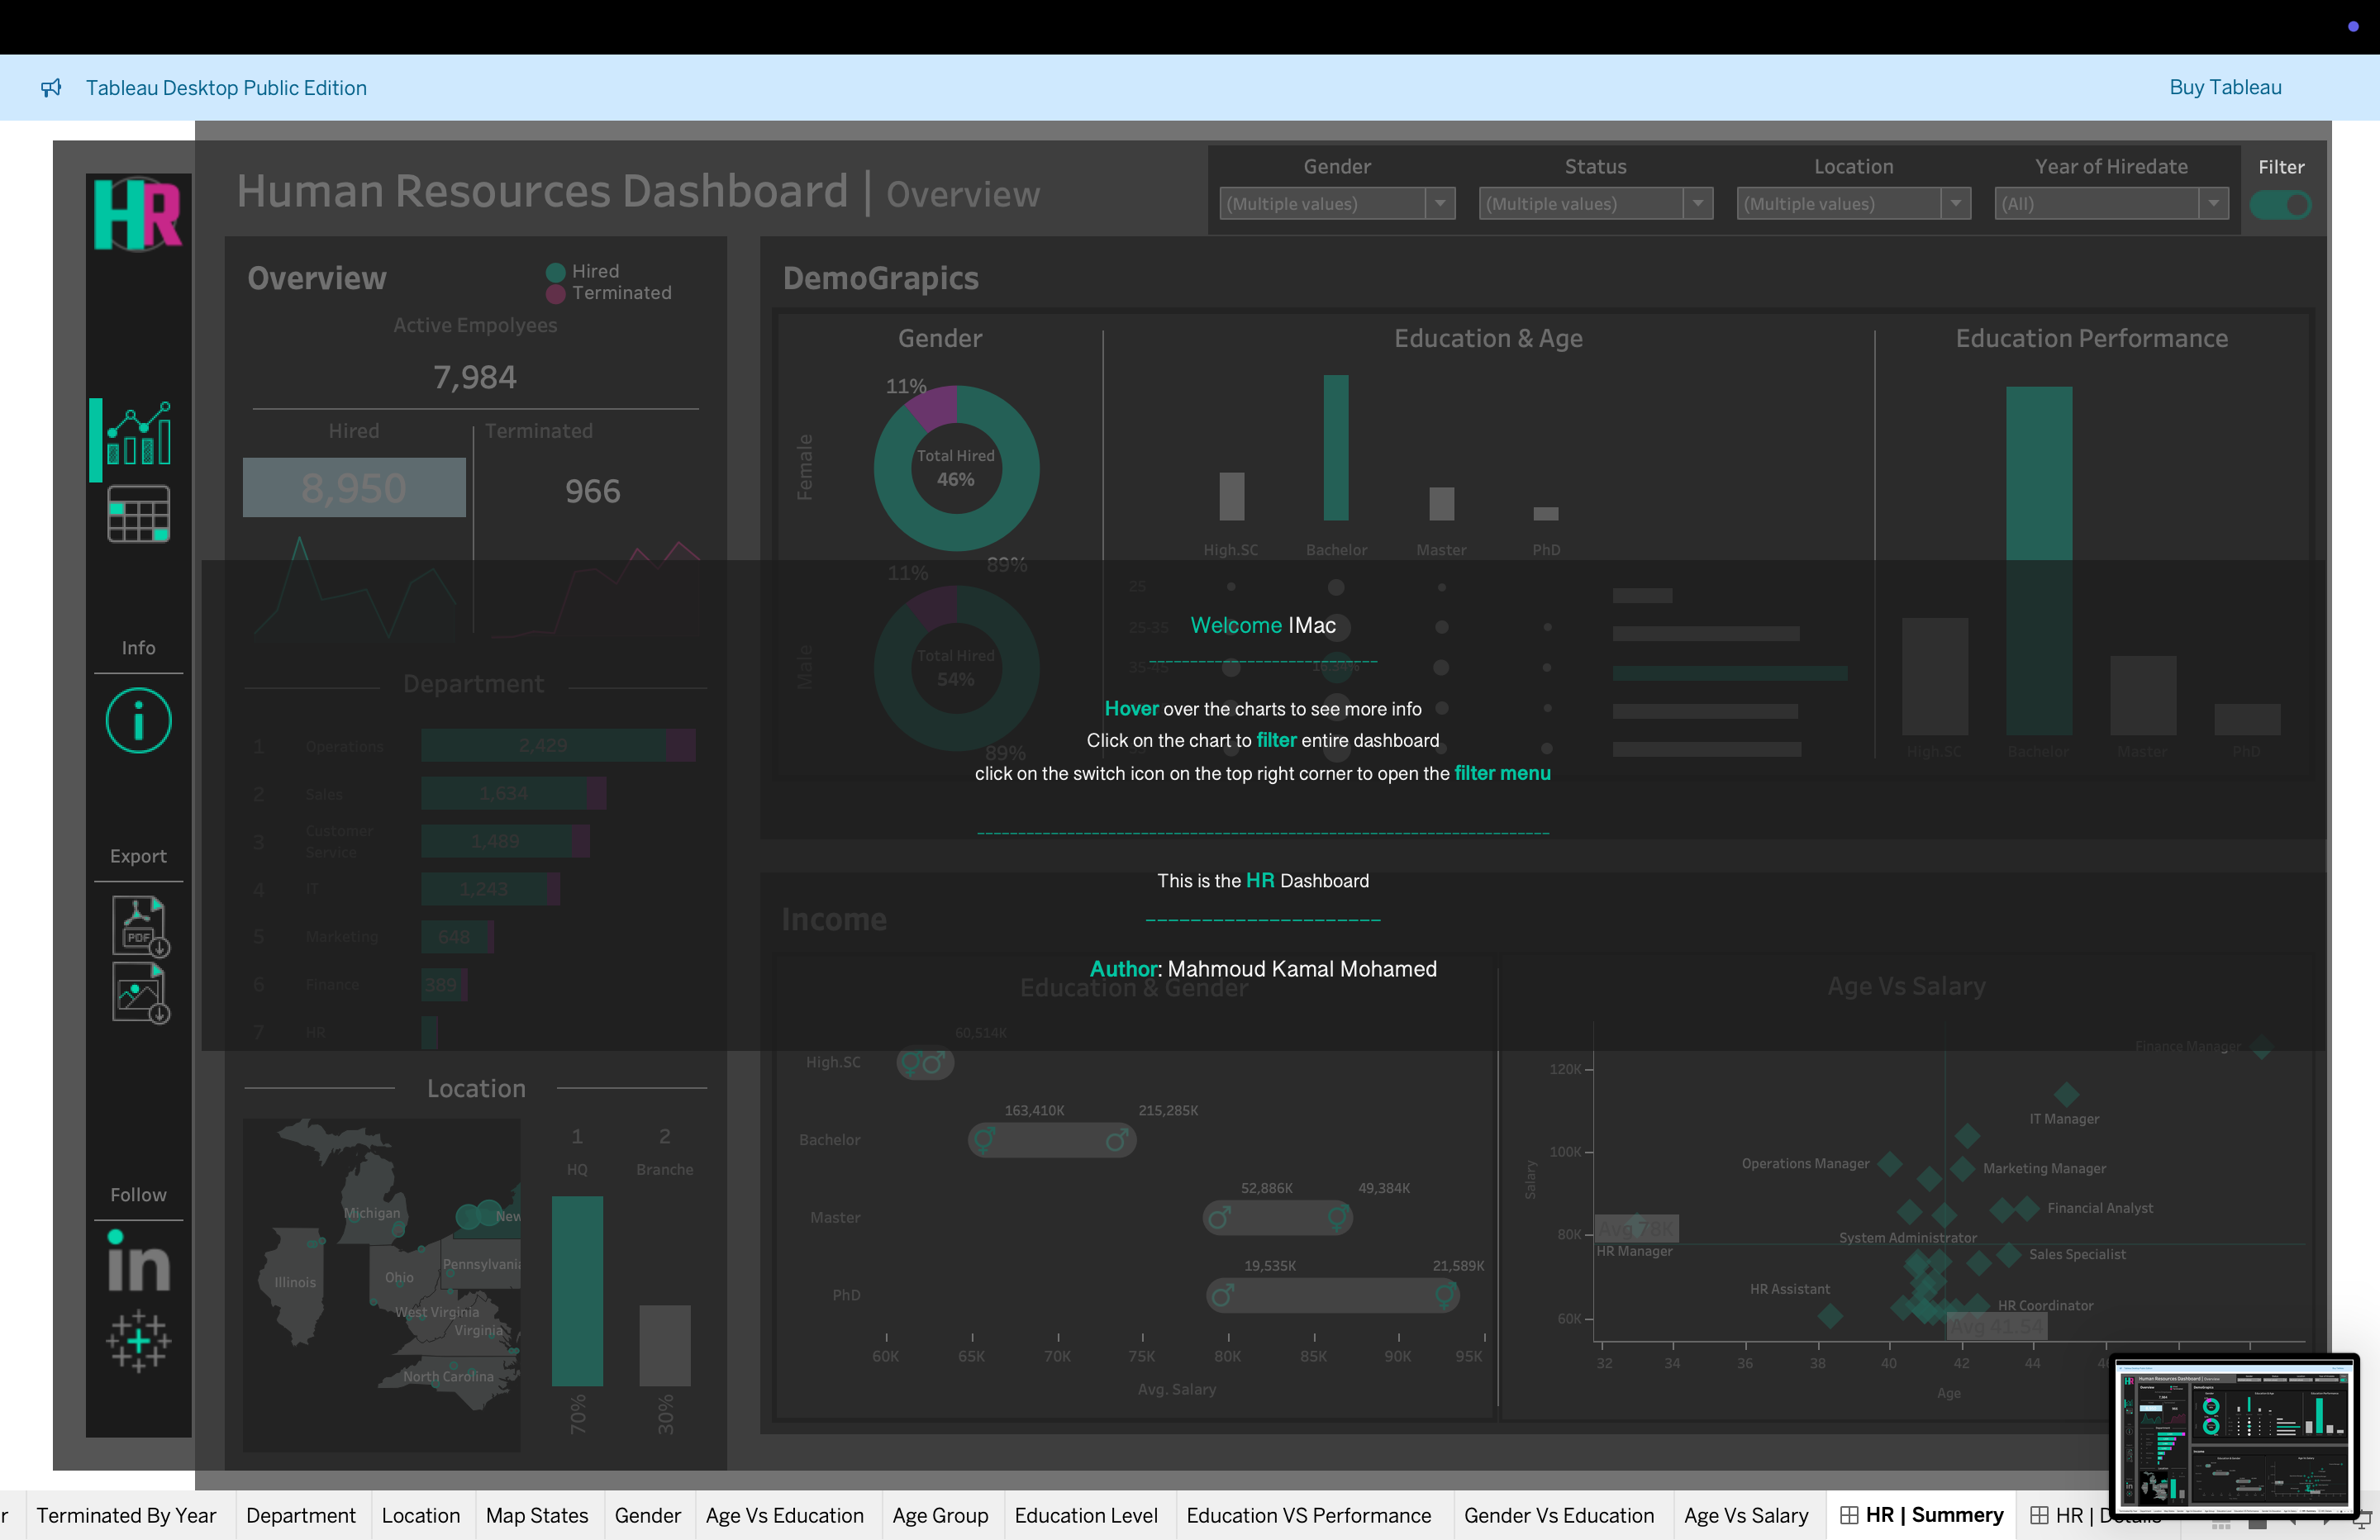

This screenshot's page, from the dashboard's own definition file:
{"tool":"tableau","page":{"name":"HR | Summery","canvas":[1000,1000],"units":"permille","ordinal":1},"visuals":[{"type":"blank","box":[70,0,923.6,309.4]},{"type":"text","box":[82.9,15,482.9,72.5]},{"type":"blank","box":[565.7,15,425.7,72.5]},{"type":"text","box":[960,16.2,40.7,33.8]},{"type":"filter","title":"Age Vs Salary","param":"[federated.06mr3i618qxdck11wm2he1a55tez].[none:Gender:nk]","box":[507.9,17.5,112.1,66.2]},{"type":"filter","title":"Gender Vs Education","param":"[federated.06mr3i618qxdck11wm2he1a55tez].[none:Calculation_112590011225538560:nk","box":[620,17.5,111.4,66.2]},{"type":"filter","title":"Education VS Performance","param":"[federated.06mr3i618qxdck11wm2he1a55tez].[none:Calculation_264797603350908930:nk","box":[731.4,17.5,111.4,66.2]},{"type":"filter","title":"Age Vs Education","param":"[federated.06mr3i618qxdck11wm2he1a55tez].[yr:Hiredate:ok]","box":[842.9,17.5,111.4,66.2]},{"type":"image","param":"Image/Logo.png","box":[22.9,41.2,45.7,58.8]},{"type":"dashboard-object","box":[957.9,42.5,27.9,40]},{"type":"text","box":[218.6,91.2,67.1,52.5]},{"type":"text","box":[87.9,96.2,207.1,42.5]},{"type":"text","box":[319.3,96.2,667.1,42.5]},{"type":"blank","box":[22.9,100,45.7,112.5]},{"type":"text","box":[87.9,138.8,207.1,31.2]},{"type":"text","box":[322.1,146.2,140,36.2]},{"type":"blank","box":[462.1,146.2,0.7,348.8]},{"type":"text","box":[466.4,146.2,325.7,36.2]},{"type":"blank","box":[795.7,146.2,0.7,348.8]},{"type":"text","box":[796.4,146.2,187.2,36.2]},{"type":"worksheet","title":"Total Acitve","mark":"Automatic","box":[87.9,170,207.1,47.5]},{"type":"worksheet","title":"Gender","mark":"Pie","rows":["Gender"],"cols":["Calculation_264797603359240198","Calculation_264797603359240198"],"box":[322.1,182.5,140,312.5]},{"type":"worksheet","title":"Education Level","mark":"Bar","rows":["Calculation_238761167989252096"],"cols":["Education Level"],"box":[466.4,182.5,325.7,125]},{"type":"worksheet","title":"Education VS Performance","mark":"Bar","rows":["Calculation_238761167989252096"],"cols":["Education Level"],"box":[796.4,182.5,187.2,312.5]},{"type":"blank","box":[24.3,202.5,5.7,61.2]},{"type":"dashboard-object","box":[23.6,212.5,44.3,47.5]},{"type":"blank","box":[87.9,217.5,207.1,1.2]},{"type":"text","box":[87.9,218.8,102.1,31.2]},{"type":"blank","box":[190,218.8,0.7,181.2]},{"type":"text","box":[190.7,218.8,104.3,31.2]},{"type":"worksheet","title":"Total Hired","mark":"Automatic","box":[87.9,250,102.1,55]},{"type":"worksheet","title":"Total Terminated","mark":"Automatic","box":[190.7,250,104.3,58.8]},{"type":"blank","box":[23.6,260,44.3,13.8]},{"type":"dashboard-object","box":[23.6,273.8,44.3,47.5]},{"type":"worksheet","title":"Hired By Year","mark":"Line","rows":["Calculation_238761167989252096","Calculation_238761167989252096"],"cols":["Hiredate"],"box":[87.9,305,102.1,95]},{"type":"worksheet","title":"Age Vs Education","mark":"Circle","rows":["Calculation_264797603363221513"],"cols":["Education Level"],"box":[466.4,307.5,213.6,187.5]},{"type":"worksheet","title":"Age Group","mark":"Bar","rows":["Calculation_264797603363221513"],"cols":["Calculation_238761167989252096"],"box":[680,307.5,112.1,187.5]},{"type":"worksheet","title":"Terminated By Year","mark":"Line","rows":["Calculation_238761167990038529","Calculation_238761167990038529"],"cols":["Termdate"],"box":[190.7,308.8,104.3,91.2]},{"type":"text","box":[70,309.4,923.6,381.2]},{"type":"blank","box":[23.6,321.2,44.3,62.5]},{"type":"text","box":[23.6,383.8,44.3,28.8]},{"type":"blank","box":[87.9,400,65.7,50]},{"type":"text","box":[153.6,400,74.3,50]},{"type":"blank","box":[227.8,400,67.1,50]},{"type":"blank","box":[23.6,412.5,44.3,11.2]},{"type":"dashboard-object","box":[23.6,423.8,44.3,55]},{"type":"worksheet","title":"Department","mark":"Bar","rows":["Calculation_264797603349704705","Department"],"cols":["Calculation_238761167989252096"],"box":[87.9,450,207.1,238.7]},{"type":"blank","box":[23.6,478.8,44.3,62.5]},{"type":"text","box":[23.6,541.2,44.3,28.8]},{"type":"text","box":[319.3,568.8,667.1,51.2]},{"type":"blank","box":[23.6,570,44.3,11.2]},{"type":"dashboard-object","box":[23.6,581.2,44.3,53.8]},{"type":"blank","box":[632.9,620,0.7,356.2]},{"type":"text","box":[635,622.5,350,45]},{"type":"text","box":[321.4,623.8,309.3,45]},{"type":"dashboard-object","box":[23.6,635,44.3,50]},{"type":"worksheet","title":"Age Vs Salary","mark":"Shape","rows":["Salary"],"cols":["Calculation_264797603362271240"],"box":[635,667.5,350,306.2]},{"type":"worksheet","title":"Gender Vs Education","mark":"Line","rows":["Education Level"],"cols":["Salary","Salary"],"box":[321.4,668.8,309.3,303.8]},{"type":"blank","box":[23.6,685,44.3,112.5]},{"type":"blank","box":[87.9,688.7,71.9,37.5]},{"type":"text","box":[159.8,688.7,63.3,37.5]},{"type":"blank","box":[223.1,688.7,71.9,37.5]},{"type":"blank","box":[70,690.6,923.6,309.4]},{"type":"worksheet","title":"Map States","mark":"Automatic","box":[87.9,726.2,125.7,250.1]},{"type":"worksheet","title":"Location","mark":"Bar","rows":["Calculation_238761167989252096"],"cols":["Calculation_264797603350908930","Calculation1"],"box":[213.6,726.2,81.4,250.1]},{"type":"text","box":[23.6,797.5,44.3,28.8]},{"type":"blank","box":[23.6,826.2,44.3,11.2]},{"type":"image","param":"Image/contact-linkedin.png","box":[23.6,837.5,44.3,50]},{"type":"blank","box":[23.6,887.5,44.3,11.2]},{"type":"image","param":"Image/contact-public.png","box":[23.6,898.8,44.3,50]}]}

Visuals, with their boxes on the dashboard's canvas, which has no fixed pixel size, in thousandths of its width and height (x1, y1, x2, y2). These are canvas units, not pixel positions in the 2380x1540 screenshot, which may show the page scaled, cropped or inside an application window:
blank: pyautogui.locateOnScreen(70, 0, 994, 309)
text: pyautogui.locateOnScreen(83, 15, 566, 88)
blank: pyautogui.locateOnScreen(566, 15, 991, 88)
text: pyautogui.locateOnScreen(960, 16, 1001, 50)
"Age Vs Salary" filter: pyautogui.locateOnScreen(508, 18, 620, 84)
"Gender Vs Education" filter: pyautogui.locateOnScreen(620, 18, 731, 84)
"Education VS Performance" filter: pyautogui.locateOnScreen(731, 18, 843, 84)
"Age Vs Education" filter: pyautogui.locateOnScreen(843, 18, 954, 84)
image: pyautogui.locateOnScreen(23, 41, 69, 100)
dashboard-object: pyautogui.locateOnScreen(958, 42, 986, 82)
text: pyautogui.locateOnScreen(219, 91, 286, 144)
text: pyautogui.locateOnScreen(88, 96, 295, 139)
text: pyautogui.locateOnScreen(319, 96, 986, 139)
blank: pyautogui.locateOnScreen(23, 100, 69, 212)
text: pyautogui.locateOnScreen(88, 139, 295, 170)
text: pyautogui.locateOnScreen(322, 146, 462, 182)
blank: pyautogui.locateOnScreen(462, 146, 463, 495)
text: pyautogui.locateOnScreen(466, 146, 792, 182)
blank: pyautogui.locateOnScreen(796, 146, 796, 495)
text: pyautogui.locateOnScreen(796, 146, 984, 182)
"Total Acitve" worksheet: pyautogui.locateOnScreen(88, 170, 295, 218)
"Gender" worksheet (Pie marks): pyautogui.locateOnScreen(322, 182, 462, 495)
"Education Level" worksheet (Bar marks): pyautogui.locateOnScreen(466, 182, 792, 308)
"Education VS Performance" worksheet (Bar marks): pyautogui.locateOnScreen(796, 182, 984, 495)
blank: pyautogui.locateOnScreen(24, 202, 30, 264)
dashboard-object: pyautogui.locateOnScreen(24, 212, 68, 260)
blank: pyautogui.locateOnScreen(88, 218, 295, 219)
text: pyautogui.locateOnScreen(88, 219, 190, 250)
blank: pyautogui.locateOnScreen(190, 219, 191, 400)
text: pyautogui.locateOnScreen(191, 219, 295, 250)
"Total Hired" worksheet: pyautogui.locateOnScreen(88, 250, 190, 305)
"Total Terminated" worksheet: pyautogui.locateOnScreen(191, 250, 295, 309)
blank: pyautogui.locateOnScreen(24, 260, 68, 274)
dashboard-object: pyautogui.locateOnScreen(24, 274, 68, 321)
"Hired By Year" worksheet (Line marks): pyautogui.locateOnScreen(88, 305, 190, 400)
"Age Vs Education" worksheet (Circle marks): pyautogui.locateOnScreen(466, 308, 680, 495)
"Age Group" worksheet (Bar marks): pyautogui.locateOnScreen(680, 308, 792, 495)
"Terminated By Year" worksheet (Line marks): pyautogui.locateOnScreen(191, 309, 295, 400)
text: pyautogui.locateOnScreen(70, 309, 994, 691)
blank: pyautogui.locateOnScreen(24, 321, 68, 384)
text: pyautogui.locateOnScreen(24, 384, 68, 413)
blank: pyautogui.locateOnScreen(88, 400, 154, 450)
text: pyautogui.locateOnScreen(154, 400, 228, 450)
blank: pyautogui.locateOnScreen(228, 400, 295, 450)
blank: pyautogui.locateOnScreen(24, 412, 68, 424)
dashboard-object: pyautogui.locateOnScreen(24, 424, 68, 479)
"Department" worksheet (Bar marks): pyautogui.locateOnScreen(88, 450, 295, 689)
blank: pyautogui.locateOnScreen(24, 479, 68, 541)
text: pyautogui.locateOnScreen(24, 541, 68, 570)
text: pyautogui.locateOnScreen(319, 569, 986, 620)
blank: pyautogui.locateOnScreen(24, 570, 68, 581)
dashboard-object: pyautogui.locateOnScreen(24, 581, 68, 635)
blank: pyautogui.locateOnScreen(633, 620, 634, 976)
text: pyautogui.locateOnScreen(635, 622, 985, 668)
text: pyautogui.locateOnScreen(321, 624, 631, 669)
dashboard-object: pyautogui.locateOnScreen(24, 635, 68, 685)
"Age Vs Salary" worksheet (Shape marks): pyautogui.locateOnScreen(635, 668, 985, 974)
"Gender Vs Education" worksheet (Line marks): pyautogui.locateOnScreen(321, 669, 631, 973)
blank: pyautogui.locateOnScreen(24, 685, 68, 798)
blank: pyautogui.locateOnScreen(88, 689, 160, 726)
text: pyautogui.locateOnScreen(160, 689, 223, 726)
blank: pyautogui.locateOnScreen(223, 689, 295, 726)
blank: pyautogui.locateOnScreen(70, 691, 994, 1000)
"Map States" worksheet: pyautogui.locateOnScreen(88, 726, 214, 976)
"Location" worksheet (Bar marks): pyautogui.locateOnScreen(214, 726, 295, 976)
text: pyautogui.locateOnScreen(24, 798, 68, 826)
blank: pyautogui.locateOnScreen(24, 826, 68, 837)
image: pyautogui.locateOnScreen(24, 838, 68, 888)
blank: pyautogui.locateOnScreen(24, 888, 68, 899)
image: pyautogui.locateOnScreen(24, 899, 68, 949)
